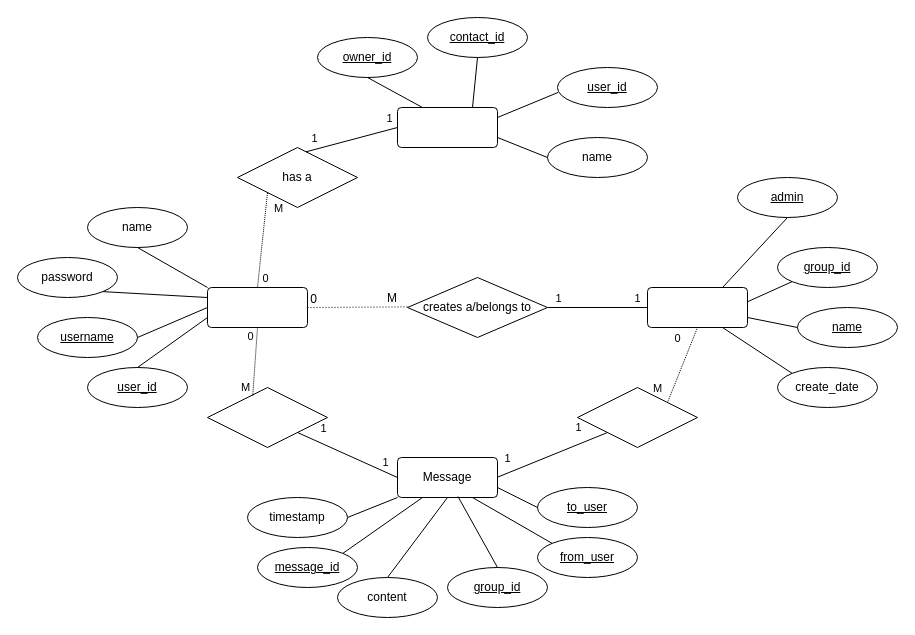
The diagram is 915 pixels wide and 635 high, and some of its shapes have lost their labels. The centre of each missing label's shape, as x and y in pixels:
Contact: pixel 447 127
Group: pixel 697 307
has: pixel 637 417
sends/receives a: pixel 267 417
User: pixel 257 307
